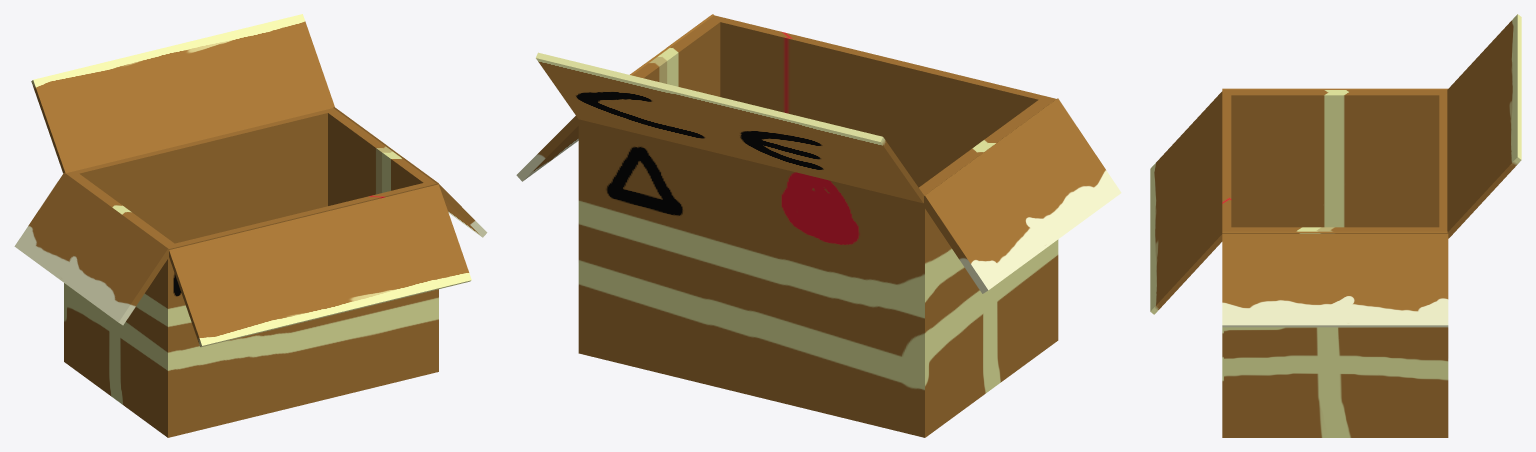
File: CaixaPapelaoAberta.glb
The picture shows the model from 3 angles, left to right: view 1: azimuth 30°, elevation 25°; view 2: azimuth 150°, elevation 25°; view 3: azimuth 270°, elevation 25°; orthographic projection. The views are drawn at different scales.
Parts seen in each view (by area): view 1: Cube; view 2: Cube; view 3: Cube.
Boxes of the visible parts, left/top/right/bottom form: Cube: left=14, top=14, right=487, bottom=437; Cube: left=516, top=14, right=1121, bottom=437; Cube: left=1150, top=14, right=1521, bottom=437.
Bounding box in the file's own units: 4.1 × 2.74 × 3.29.
Materials: 5 (5 with a texture image).
